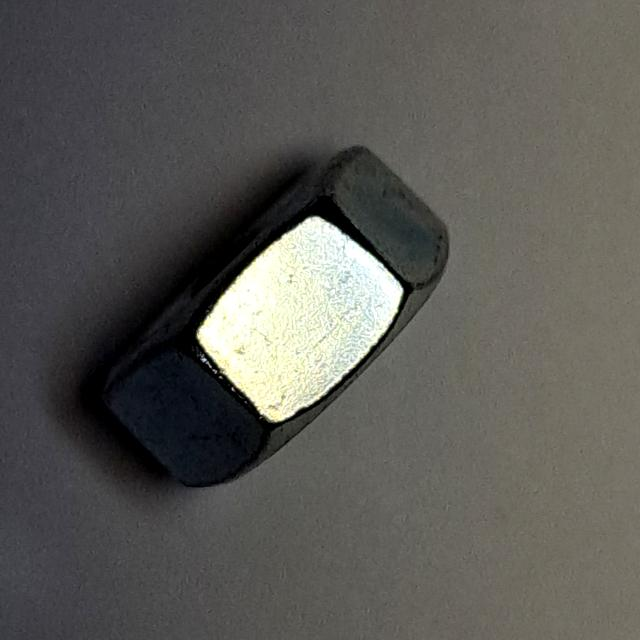Side_Excellent: (81, 128, 464, 511)
